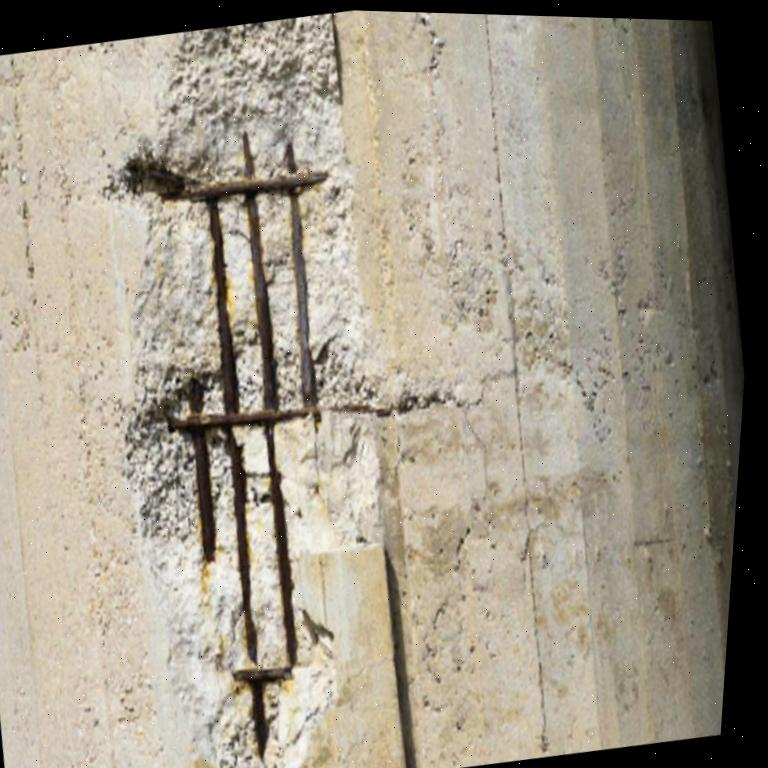exposed_rebar: (153, 133, 327, 754), (255, 190, 305, 408), (218, 194, 267, 412)
spalling: (108, 14, 382, 768)
